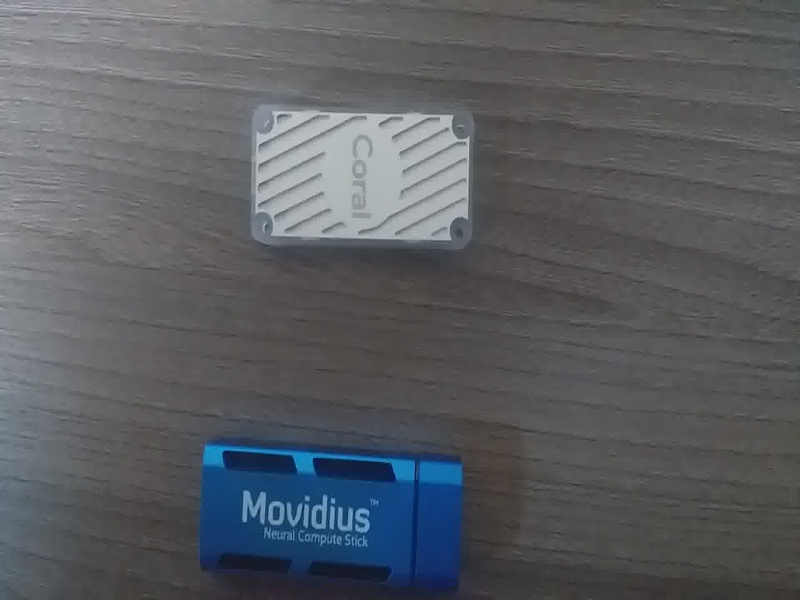coral: (246, 99, 484, 275)
movidius: (188, 428, 480, 600)
